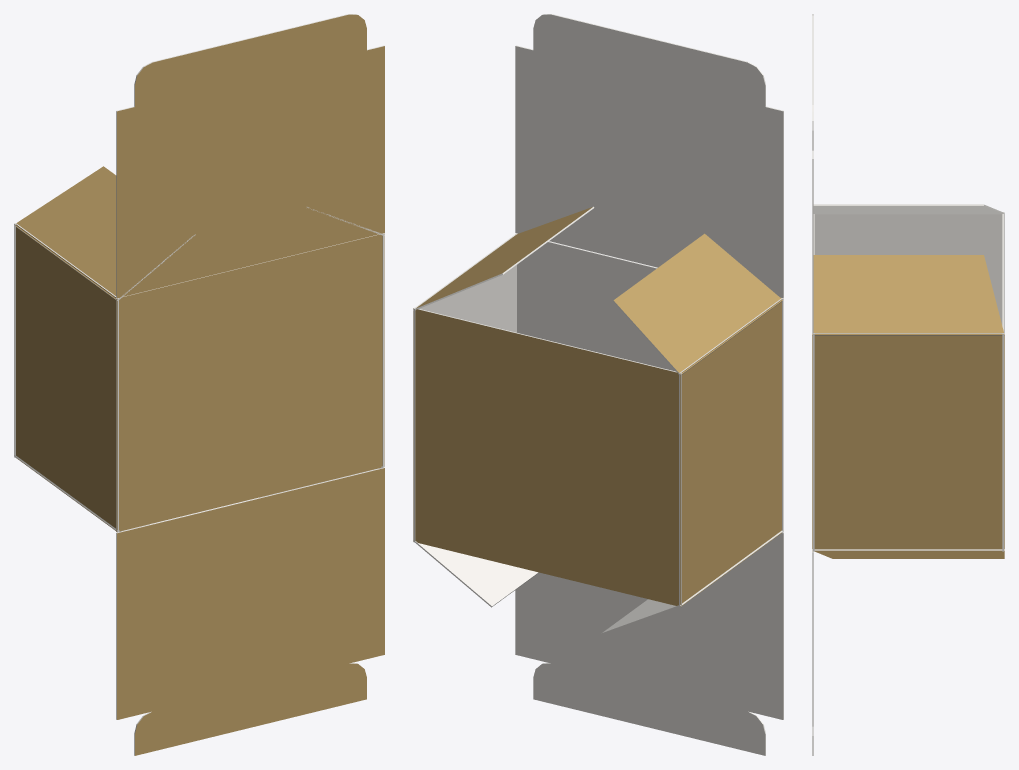
3 views of the same model, side by side, from view 1: azimuth 30°, elevation 25°; view 2: azimuth 150°, elevation 25°; view 3: azimuth 270°, elevation 25° (orthographic). The views are drawn at different scales.
Visible parts, largest first — view 1: Packive_Box_fefco0210; view 2: Packive_Box_fefco0210; view 3: Packive_Box_fefco0210.
Part boxes in pixels (left/top/right/bottom): Packive_Box_fefco0210: left=14, top=14, right=384, bottom=755; Packive_Box_fefco0210: left=413, top=14, right=783, bottom=755; Packive_Box_fefco0210: left=812, top=14, right=1004, bottom=755.
Bounding box in the file's own units: 0.3 × 0.7375 × 0.2.
Materials: 24 (12 with a texture image).
